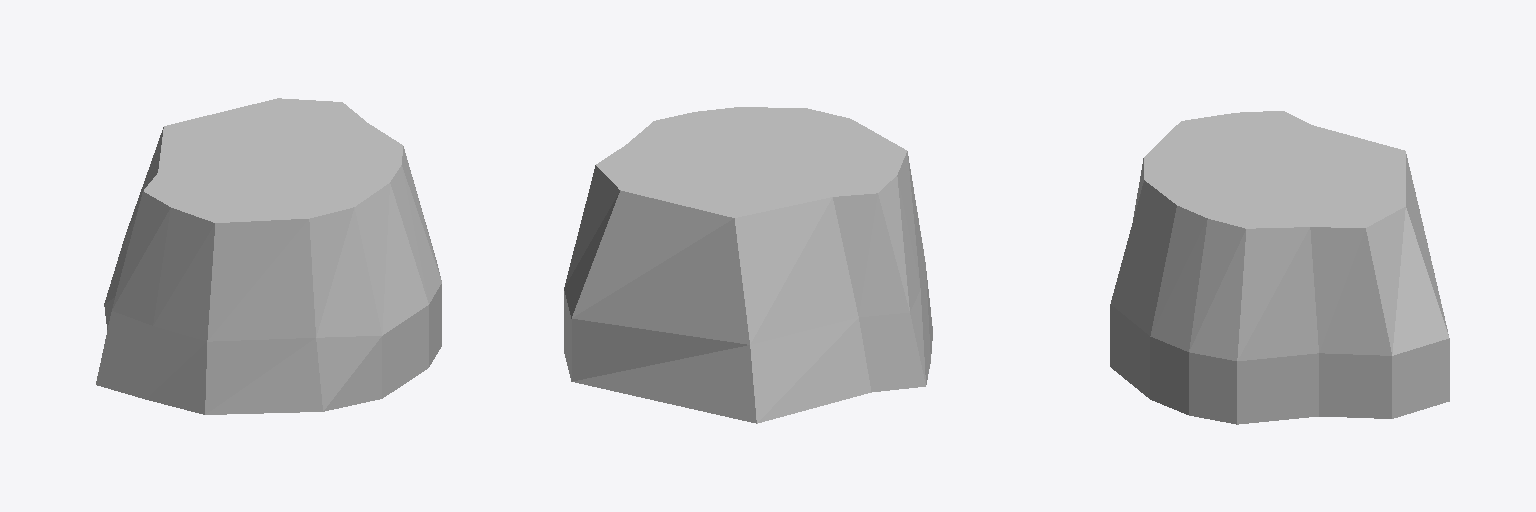
The model's file is Rock2.obj.
3 renders of one model, left to right at view 1: azimuth 30°, elevation 25°; view 2: azimuth 150°, elevation 25°; view 3: azimuth 270°, elevation 25°, orthographic.
Visible parts, largest first — view 1: Rock2; view 2: Rock2; view 3: Rock2.
Boxes of the visible parts, <box> form: Rock2: <box>96,98,441,414</box>; Rock2: <box>564,107,932,423</box>; Rock2: <box>1110,111,1449,424</box>.
Bounding box in the file's own units: 14.28 × 7.79 × 13.17.